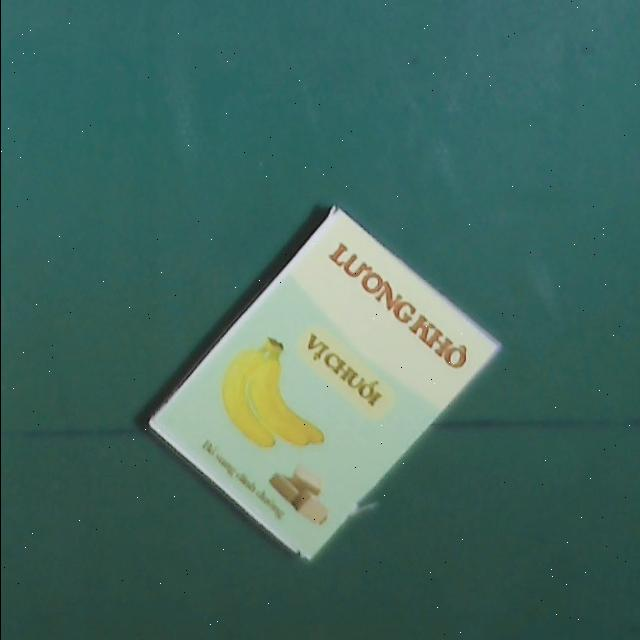chuoi: (145, 205, 498, 566)
